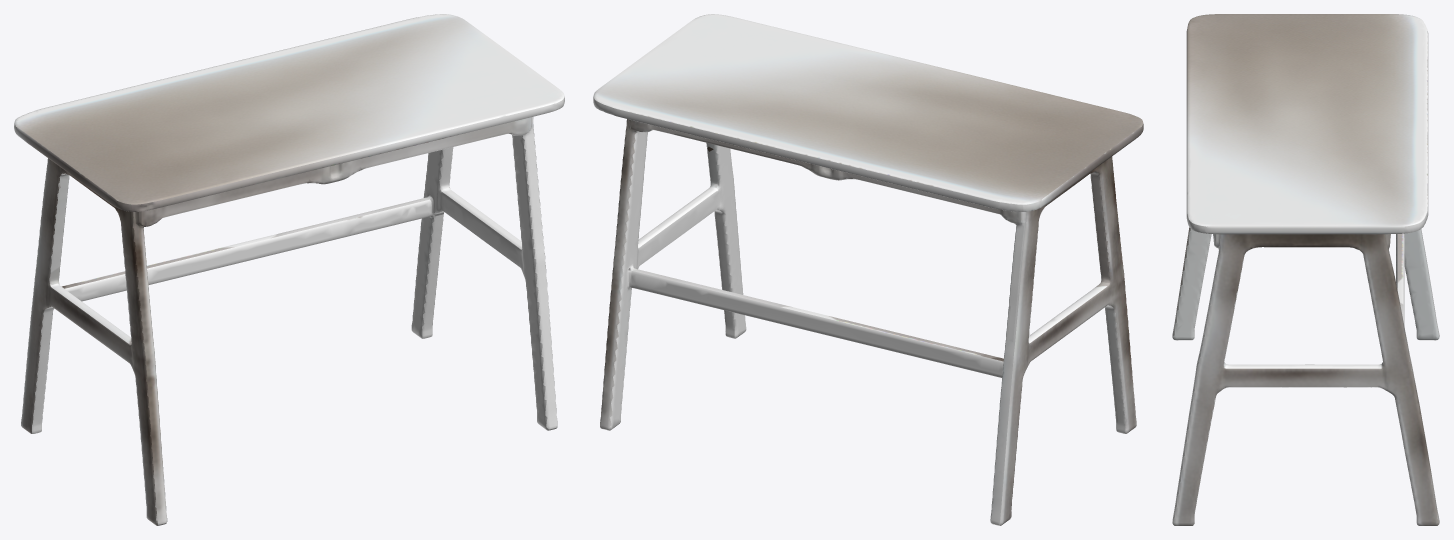
File: desk__desk#3.glb
3 views of the same model, side by side, from view 1: azimuth 30°, elevation 25°; view 2: azimuth 150°, elevation 25°; view 3: azimuth 270°, elevation 25° (orthographic). The views are drawn at different scales.
Visible parts, largest first — view 1: tmp_863goh8.ply; view 2: tmp_863goh8.ply; view 3: tmp_863goh8.ply.
Boxes of the visible parts, <box> form: tmp_863goh8.ply: <box>14,14,564,525</box>; tmp_863goh8.ply: <box>593,14,1143,525</box>; tmp_863goh8.ply: <box>1172,14,1439,525</box>.
Size of the model in its own units: 1.99 by 1.36 by 1.06.
1 material, 1 textured.
